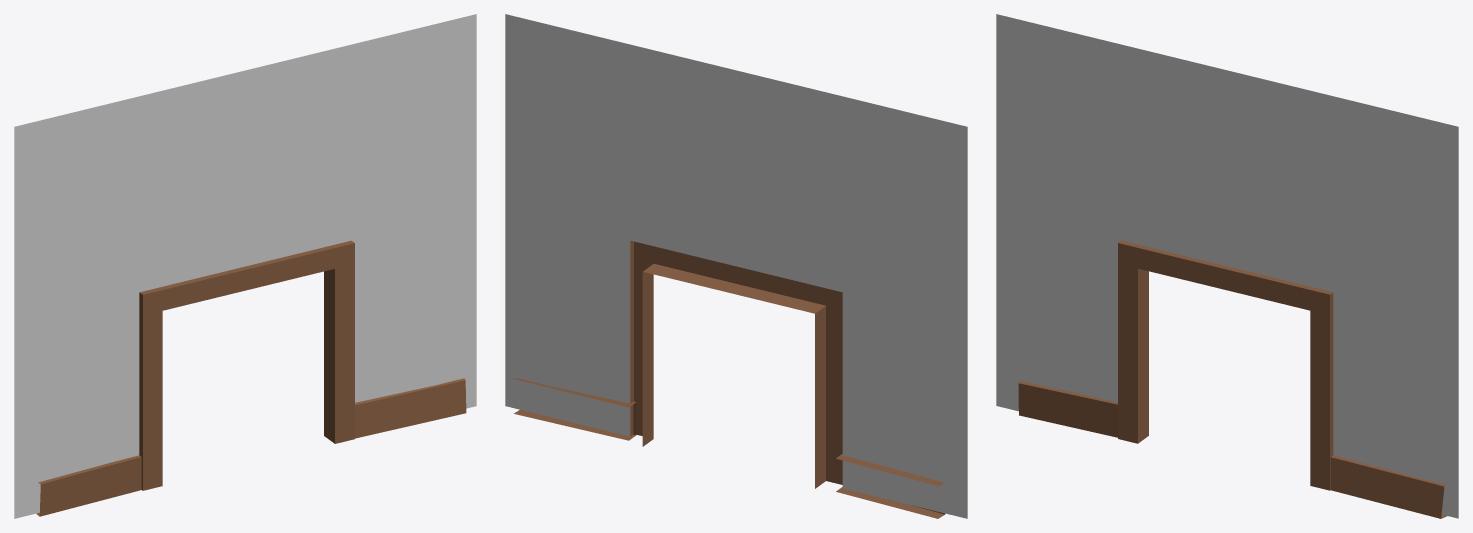
File: WarehouseWall.fbx
The picture shows the model from 3 angles, left to right: view 1: azimuth 30°, elevation 25°; view 2: azimuth 150°, elevation 25°; view 3: azimuth 330°, elevation 25°; orthographic projection.
Visible parts, largest first — view 1: WarehouseWall; view 2: WarehouseWall; view 3: WarehouseWall.
Boxes of the visible parts, bbox=[...] form: WarehouseWall: bbox=[14, 14, 476, 518]; WarehouseWall: bbox=[505, 14, 967, 518]; WarehouseWall: bbox=[996, 14, 1458, 518].
Size of the model in its own units: 400 by 326 by 16.71.
